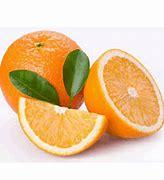orange: (80, 45, 164, 131), (0, 34, 87, 116), (12, 97, 113, 156)
